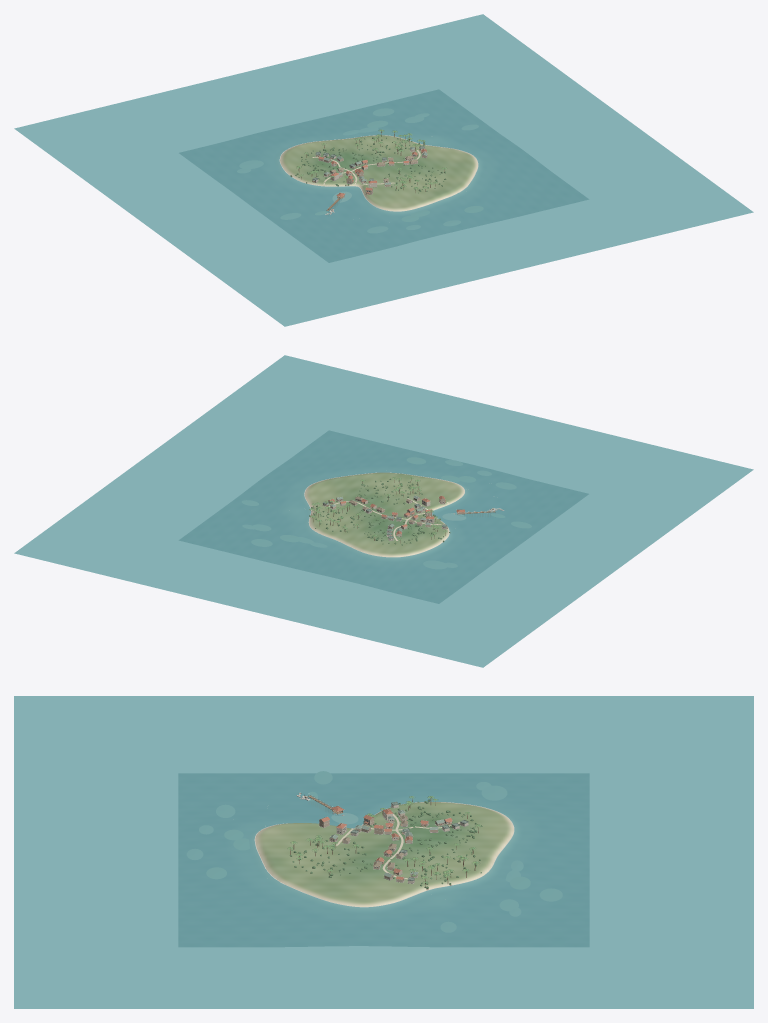
Rendered from coast.glb.
3 renders of one model, top to bottom at view 1: azimuth 30°, elevation 25°; view 2: azimuth 150°, elevation 25°; view 3: azimuth 270°, elevation 25°, orthographic. The views are drawn at different scales.
Visible parts, largest first — view 1: ENV_Water, ENV_Terrain; view 2: ENV_Water, ENV_Terrain; view 3: ENV_Water, ENV_Terrain.
Part boxes in pixels (<box>): ENV_Water: <box>14,14,753,326</box>; ENV_Terrain: <box>180,90,587,262</box>; ENV_Water: <box>14,355,753,667</box>; ENV_Terrain: <box>180,431,587,603</box>; ENV_Water: <box>14,696,753,1008</box>; ENV_Terrain: <box>179,774,588,946</box>.
Bounding box in the file's own units: 720 × 20.66 × 720.
